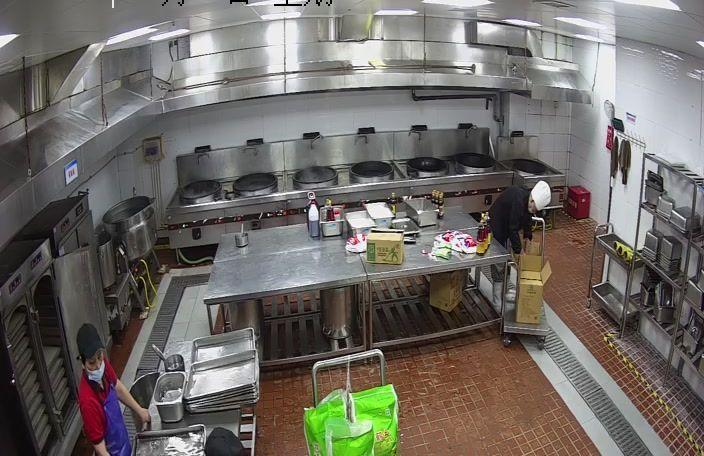mask: (89, 362, 106, 380)
